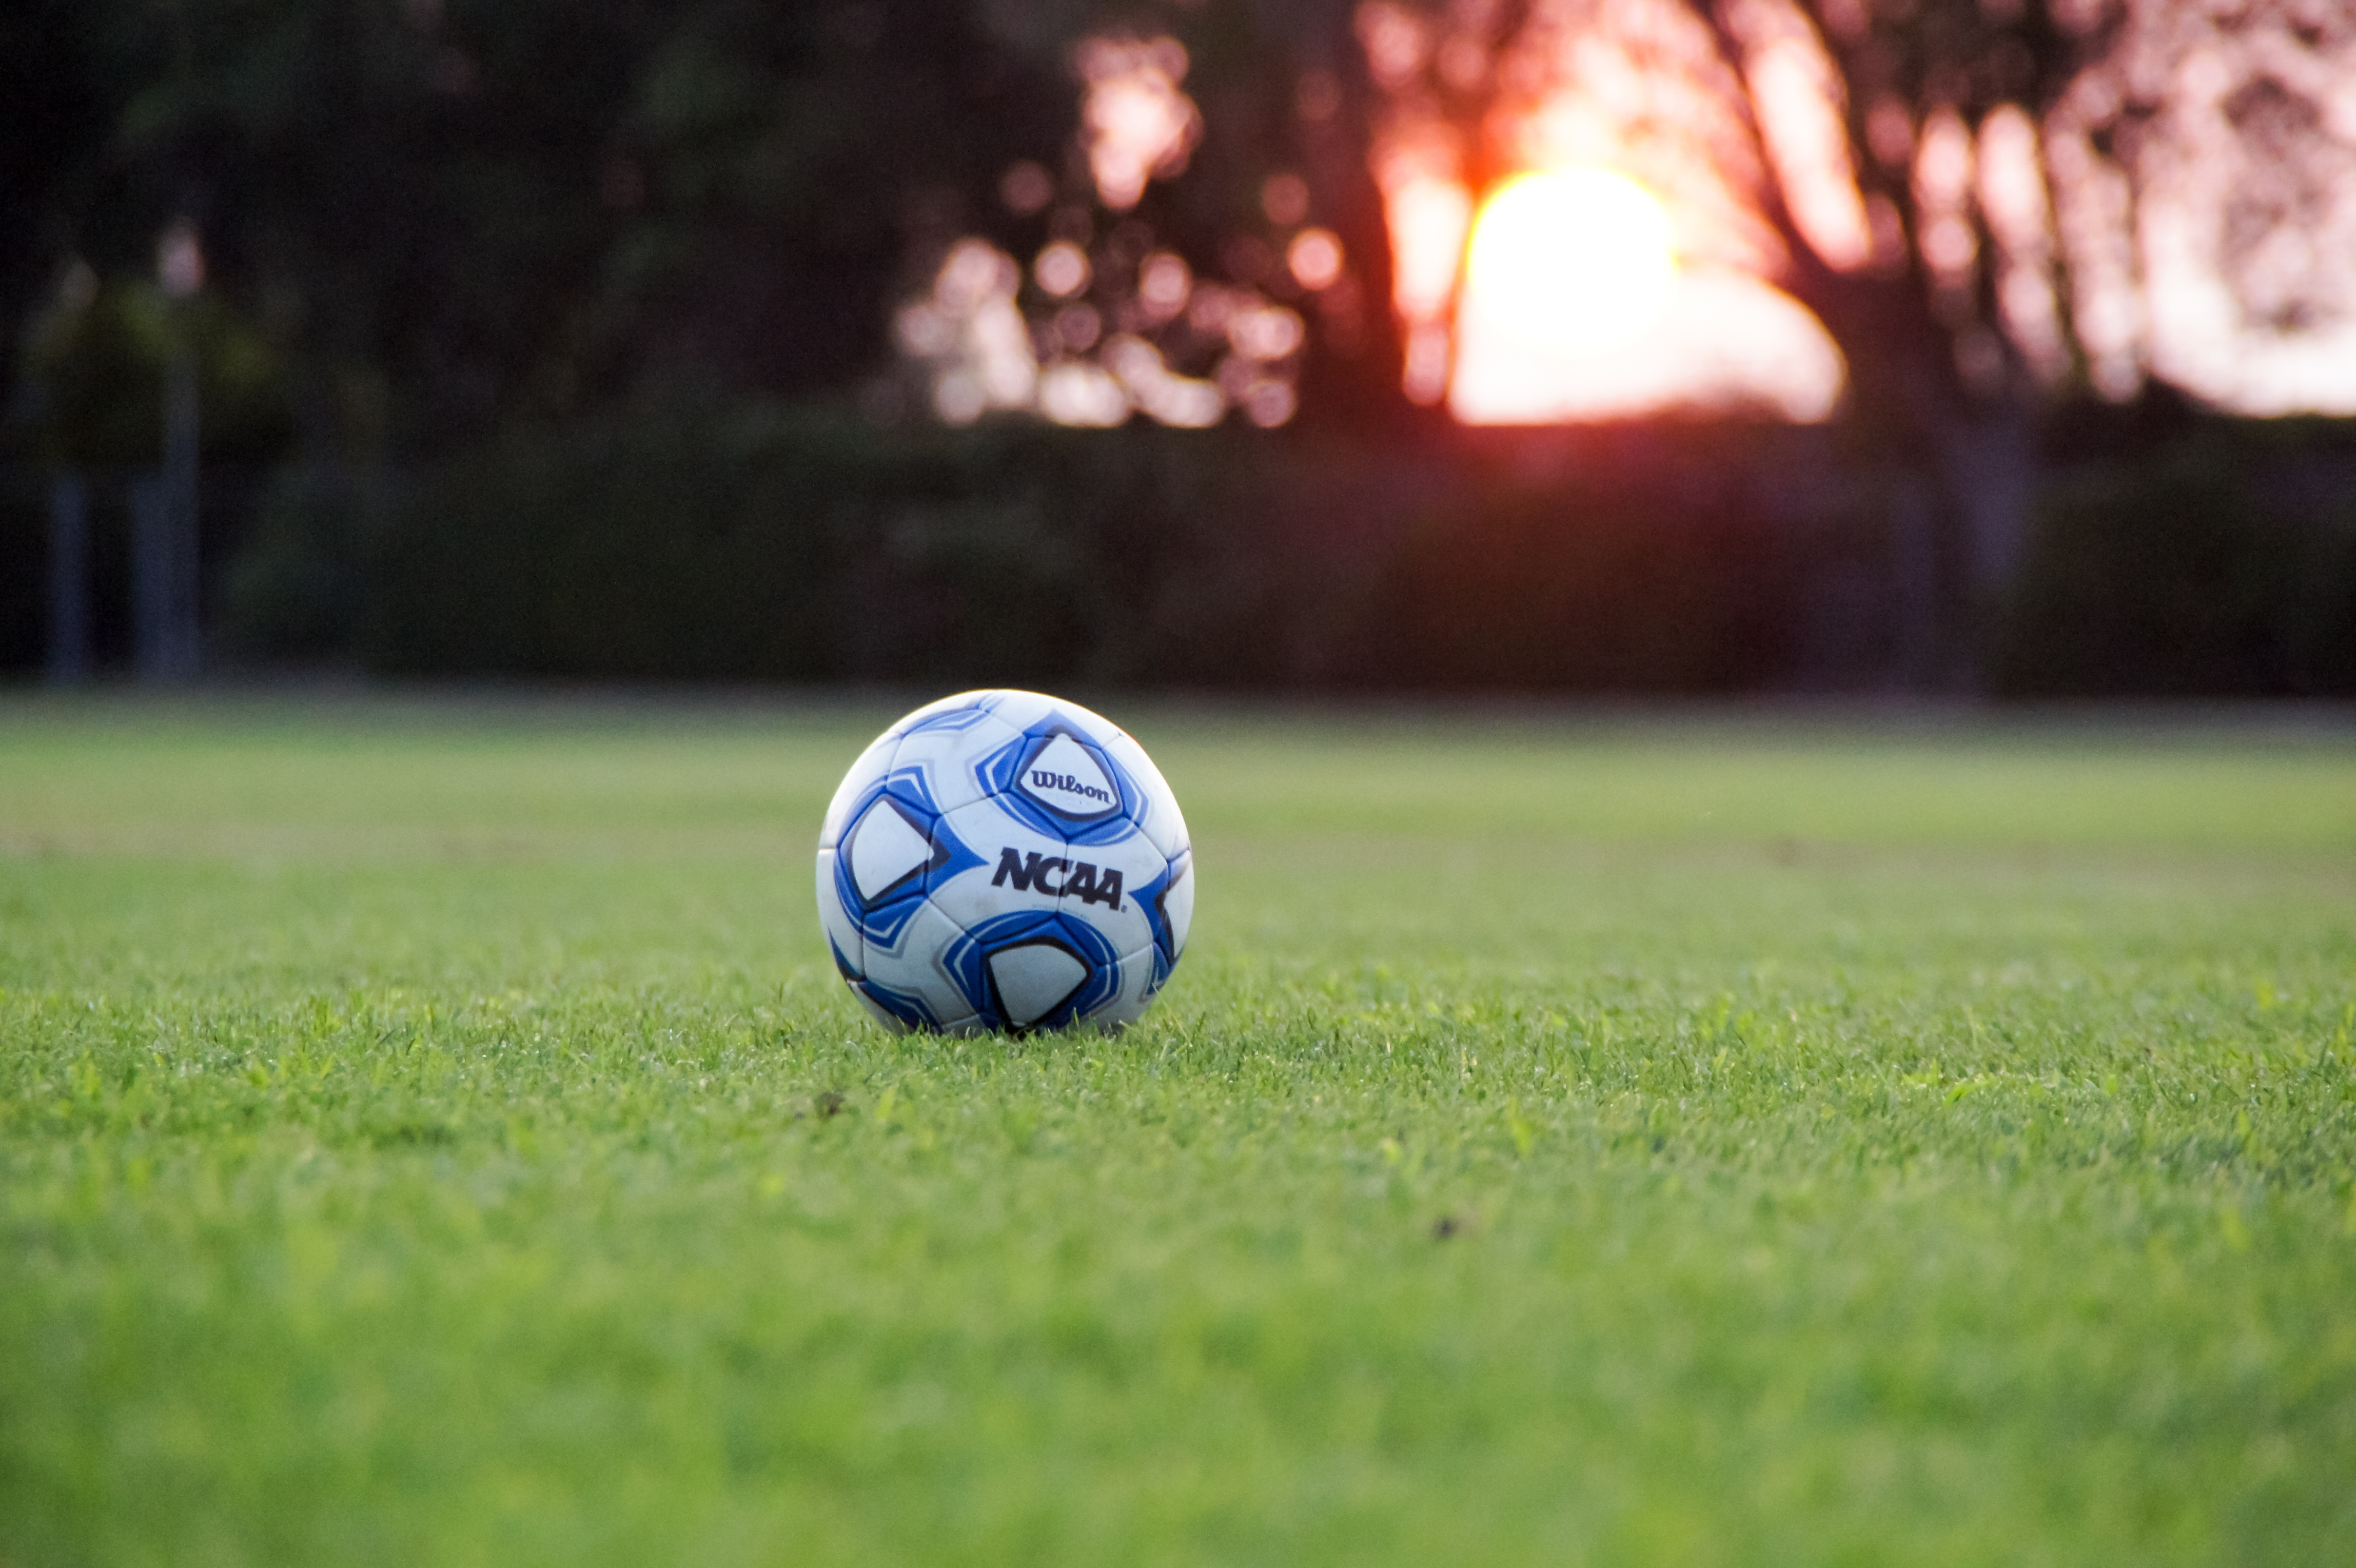soccer ball: (756, 642, 1224, 1057)
